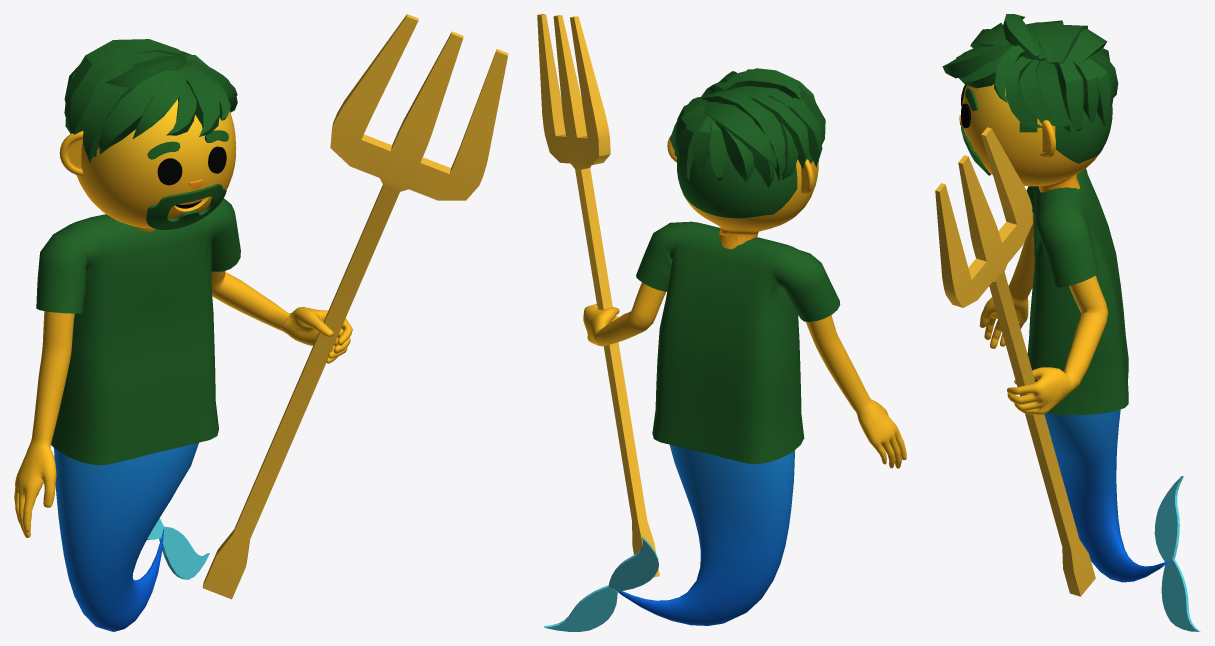
Rendered from merman.fbx.
The picture shows the model from 3 angles, left to right: view 1: azimuth 30°, elevation 25°; view 2: azimuth 150°, elevation 25°; view 3: azimuth 270°, elevation 25°; orthographic projection. The views are drawn at different scales.
Visible parts, largest first — view 1: Circle.1047, Cube.2625, Sphere.176, Cube.2635, Roundcube.222, Circle.1052, Plane.089, Circle.1048, Cylinder.189; view 2: Circle.1047, Sphere.176, Cube.2625, Cube.2635, Roundcube.222, Plane.089; view 3: Circle.1047, Cube.2625, Cube.2635, Sphere.176, Roundcube.222, Plane.089, Cylinder.189.
Part boxes in pixels (left/top/right/bottom): Circle.1047: left=14, top=198, right=352, bottom=537; Cube.2625: left=202, top=14, right=508, bottom=599; Sphere.176: left=54, top=442, right=198, bottom=631; Cube.2635: left=64, top=39, right=237, bottom=162; Roundcube.222: left=76, top=99, right=236, bottom=231; Circle.1052: left=146, top=184, right=226, bottom=229; Plane.089: left=147, top=518, right=209, bottom=579; Circle.1048: left=157, top=146, right=226, bottom=185; Cylinder.189: left=59, top=131, right=83, bottom=175; Circle.1047: left=583, top=221, right=906, bottom=468; Sphere.176: left=618, top=444, right=794, bottom=625; Cube.2625: left=537, top=14, right=659, bottom=577; Cube.2635: left=670, top=68, right=825, bottom=187; Roundcube.222: left=677, top=151, right=818, bottom=249; Plane.089: left=544, top=536, right=658, bottom=631; Circle.1047: left=979, top=168, right=1128, bottom=415; Cube.2625: left=935, top=127, right=1095, bottom=596; Cube.2635: left=942, top=14, right=1118, bottom=132; Sphere.176: left=1044, top=409, right=1170, bottom=582; Roundcube.222: left=962, top=56, right=1112, bottom=192; Plane.089: left=1154, top=476, right=1200, bottom=631; Cylinder.189: left=1039, top=120, right=1055, bottom=158.
Bounding box in the file's own units: 166 × 214 × 93.67.
2 materials, 2 textured.
